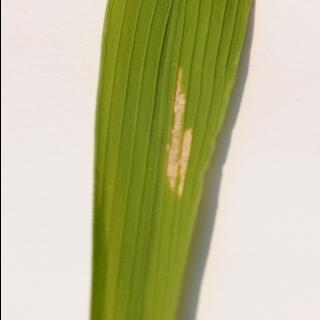Hawar-Daun: (154, 66, 206, 202)
